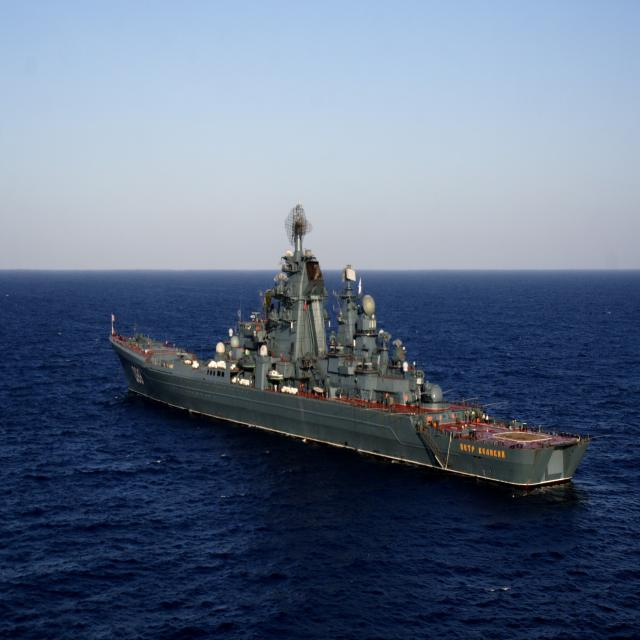navalvessels: (87, 176, 583, 525)
